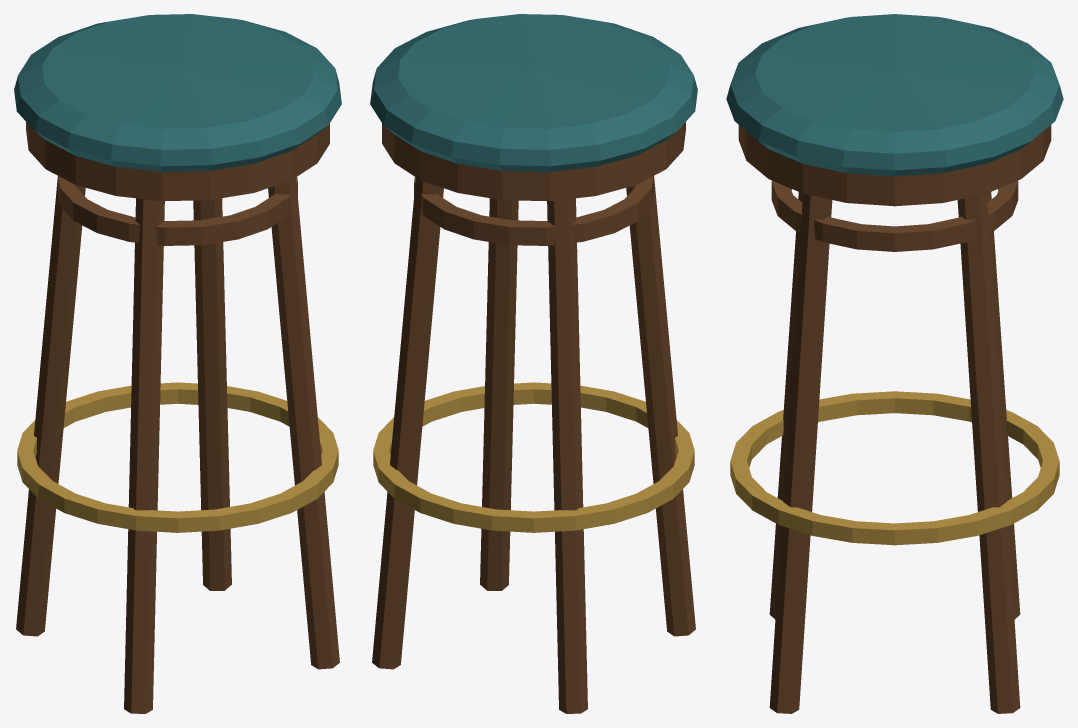
The model's file is studio_stool_petrol.fbx.
The picture shows the model from 3 angles, left to right: view 1: azimuth 30°, elevation 25°; view 2: azimuth 150°, elevation 25°; view 3: azimuth 270°, elevation 25°; orthographic projection. The views are drawn at different scales.
Parts seen in each view (by area): view 1: studio_stool_petrol_LOD0; view 2: studio_stool_petrol_LOD0; view 3: studio_stool_petrol_LOD0.
Part boxes in pixels (x1,y1,x2,y2): studio_stool_petrol_LOD0: (14, 14, 341, 713); studio_stool_petrol_LOD0: (370, 14, 697, 713); studio_stool_petrol_LOD0: (726, 14, 1063, 713).
Size of what is drawn, in the model's own units: 0.41 by 0.7965 by 0.41.
1 material, 1 textured.
